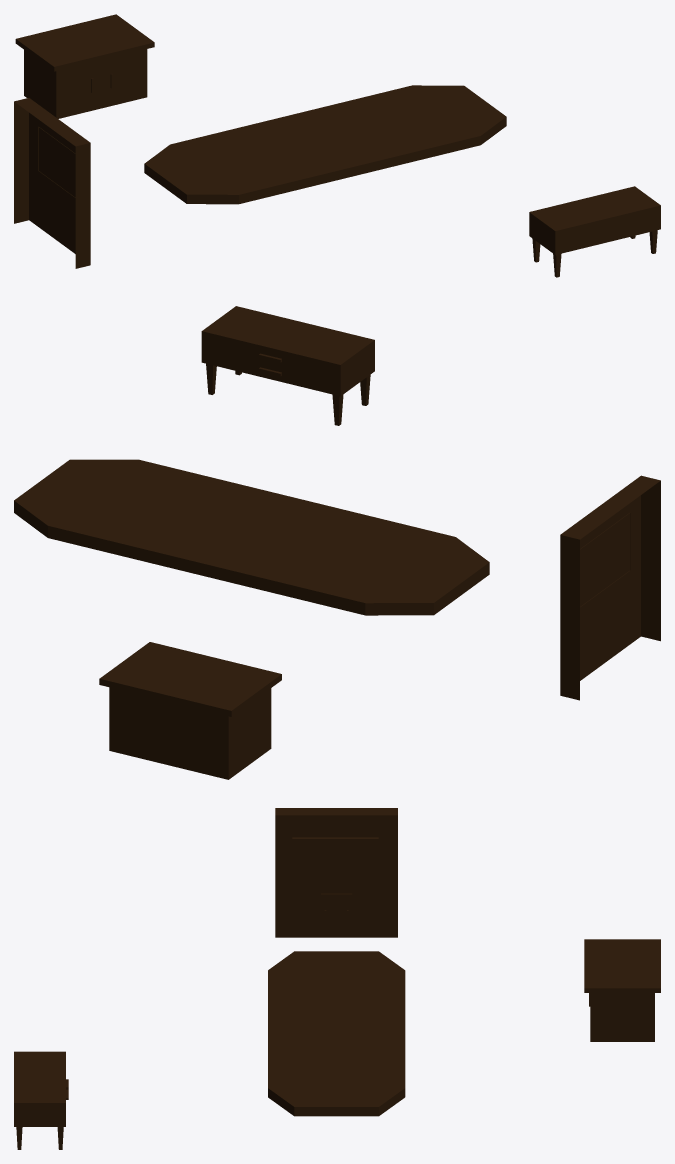
Rendered from meeting_room.FBX.
3 renders of one model, top to bottom at view 1: azimuth 30°, elevation 25°; view 2: azimuth 150°, elevation 25°; view 3: azimuth 270°, elevation 25°, orthographic. The views are drawn at different scales.
Parts seen in each view (by area): view 1: table; view 2: table; view 3: table.
Part boxes in pixels (<box>): table: <box>14,14,660,277</box>; table: <box>14,306,660,779</box>; table: <box>14,808,660,1149</box>.
Bounding box in the file's own units: 9.71 × 12 × 2.5.
